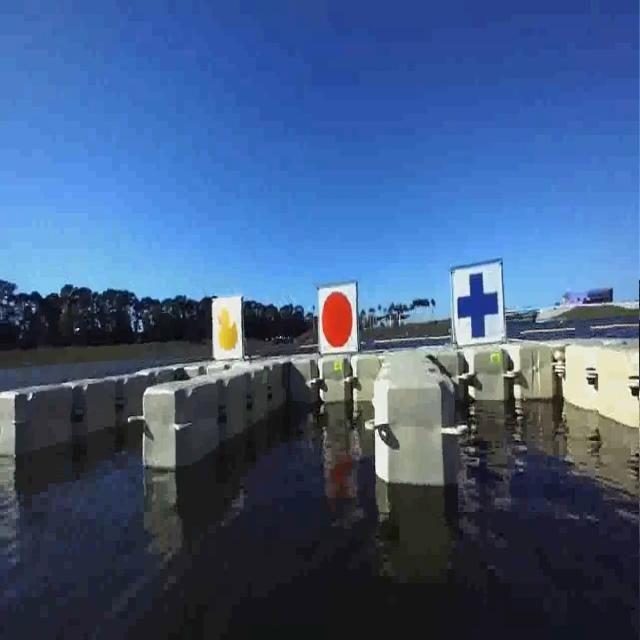blue-cross: (449, 260, 505, 342)
red-dot: (315, 285, 359, 350)
yellow-duck: (211, 300, 245, 360)
